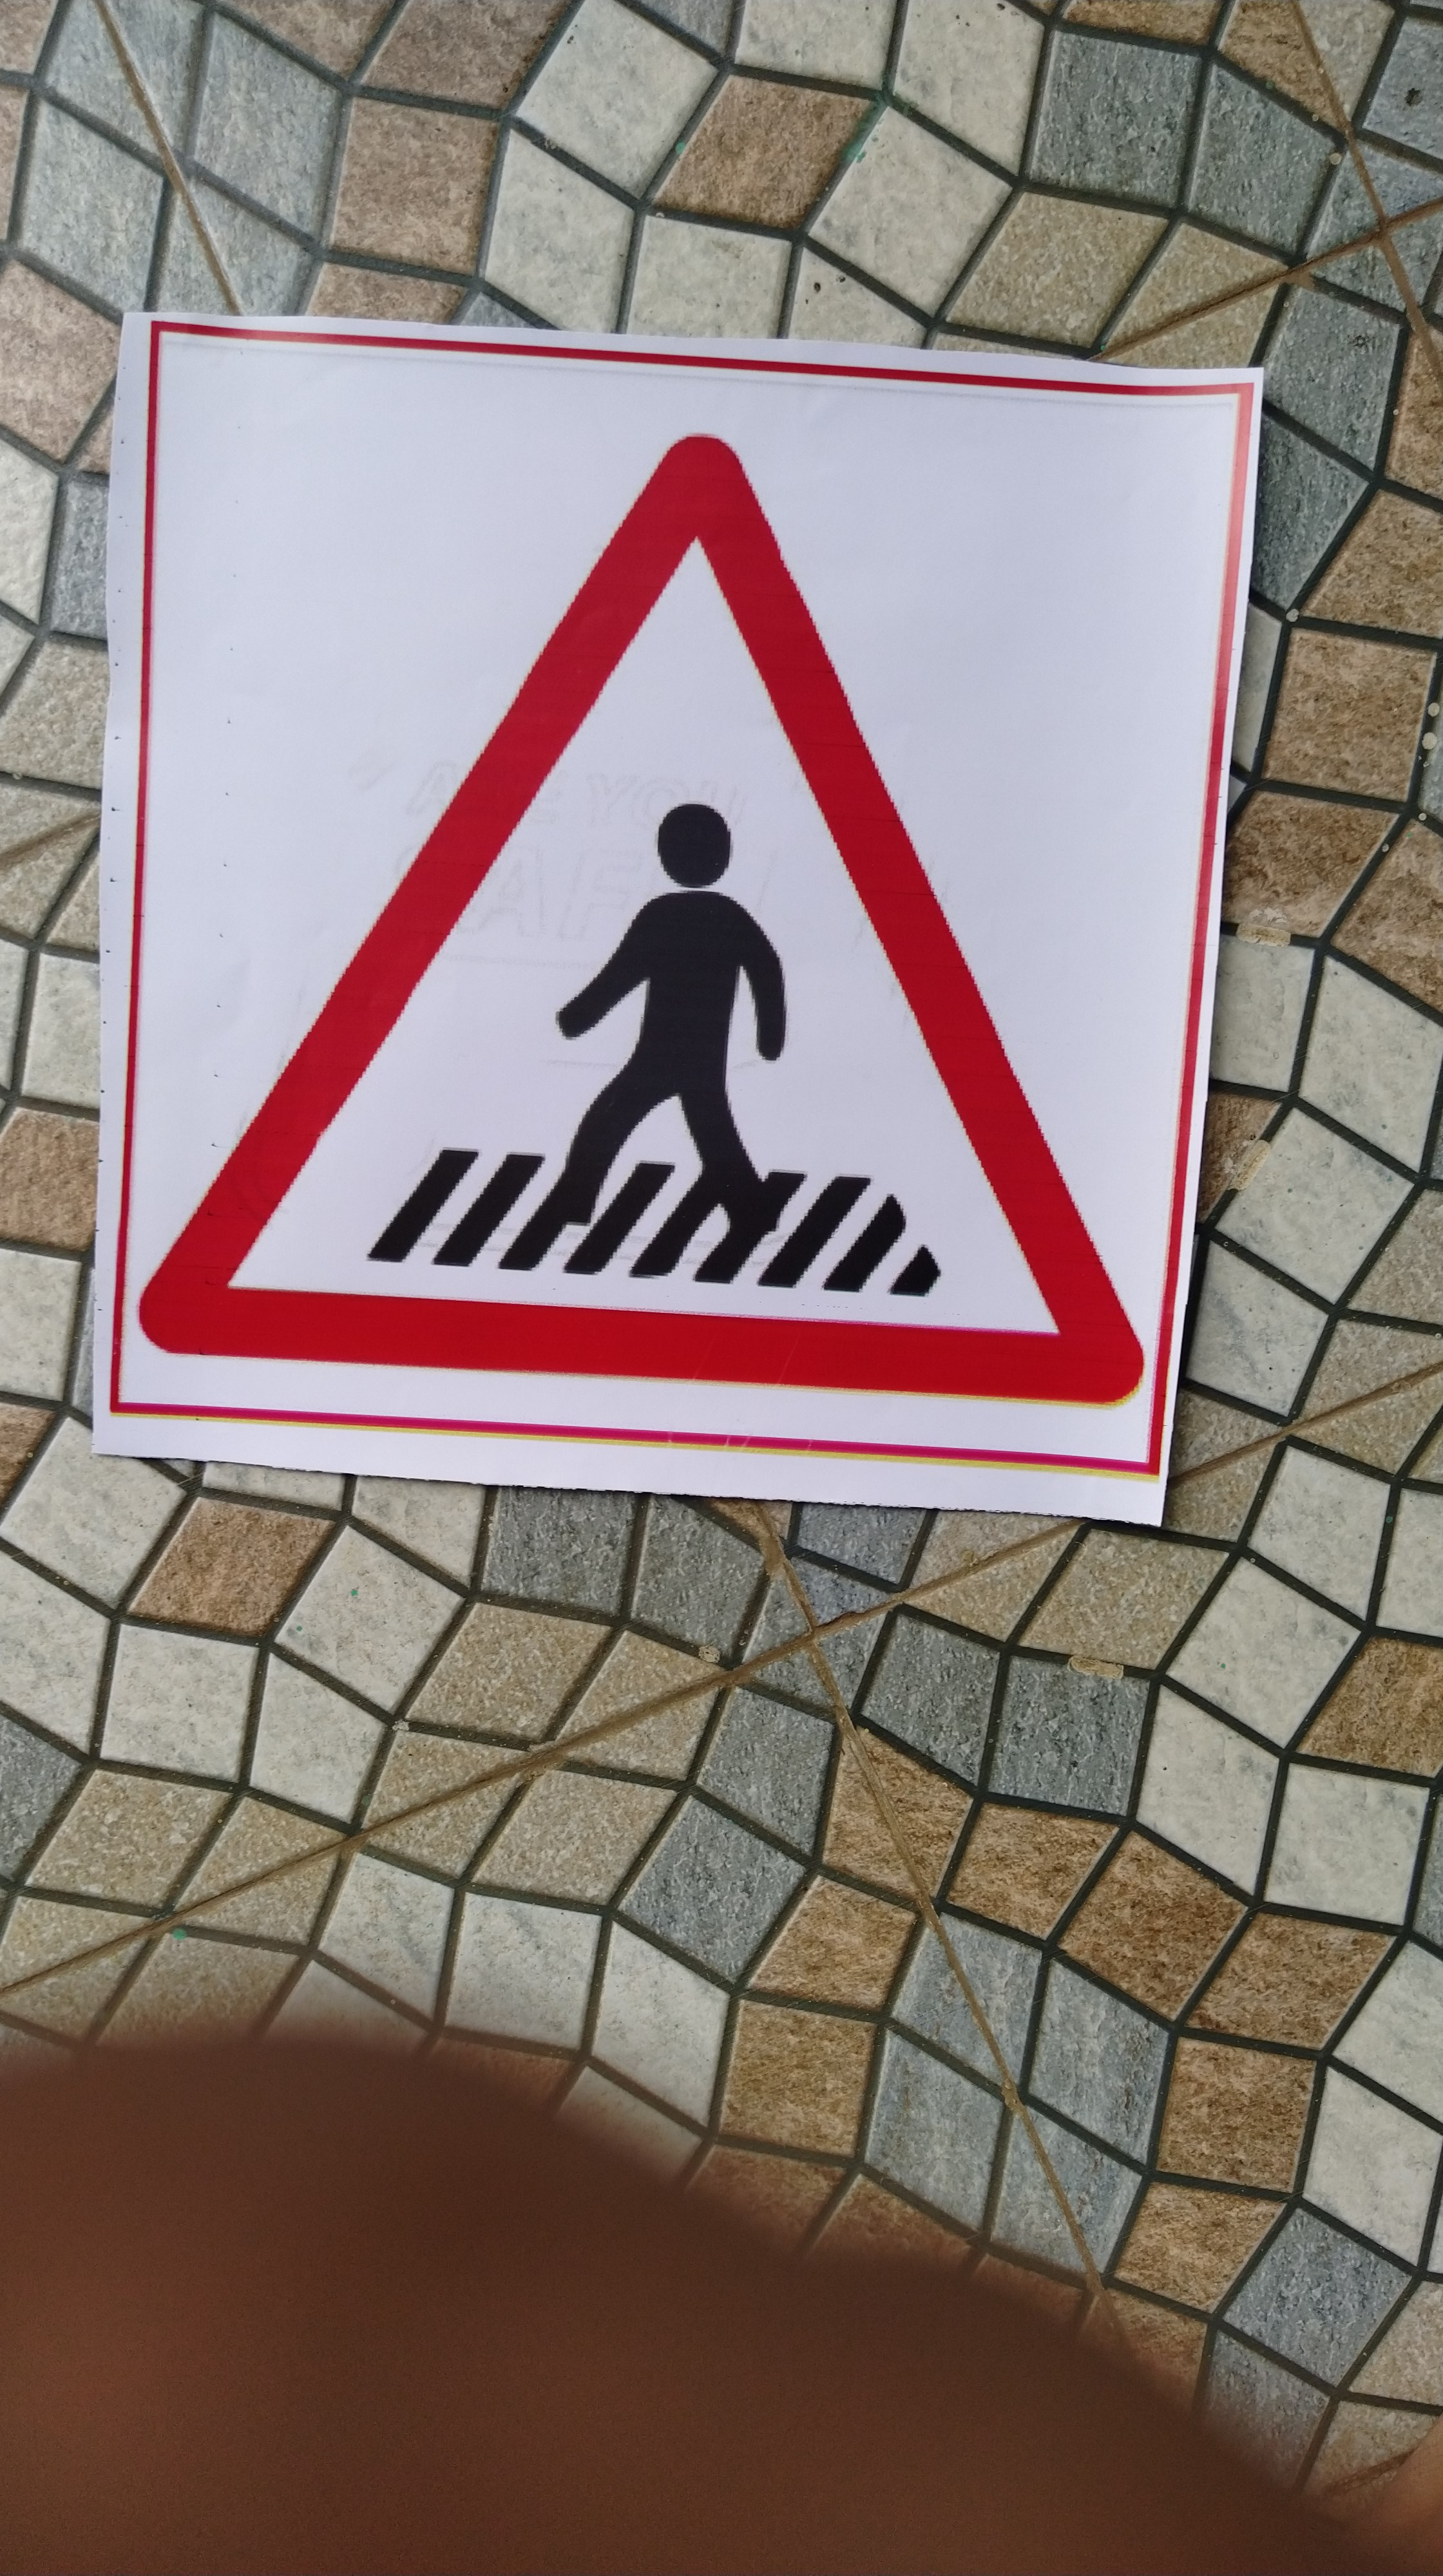pedestrain crossing: (145, 334, 1144, 1453)
